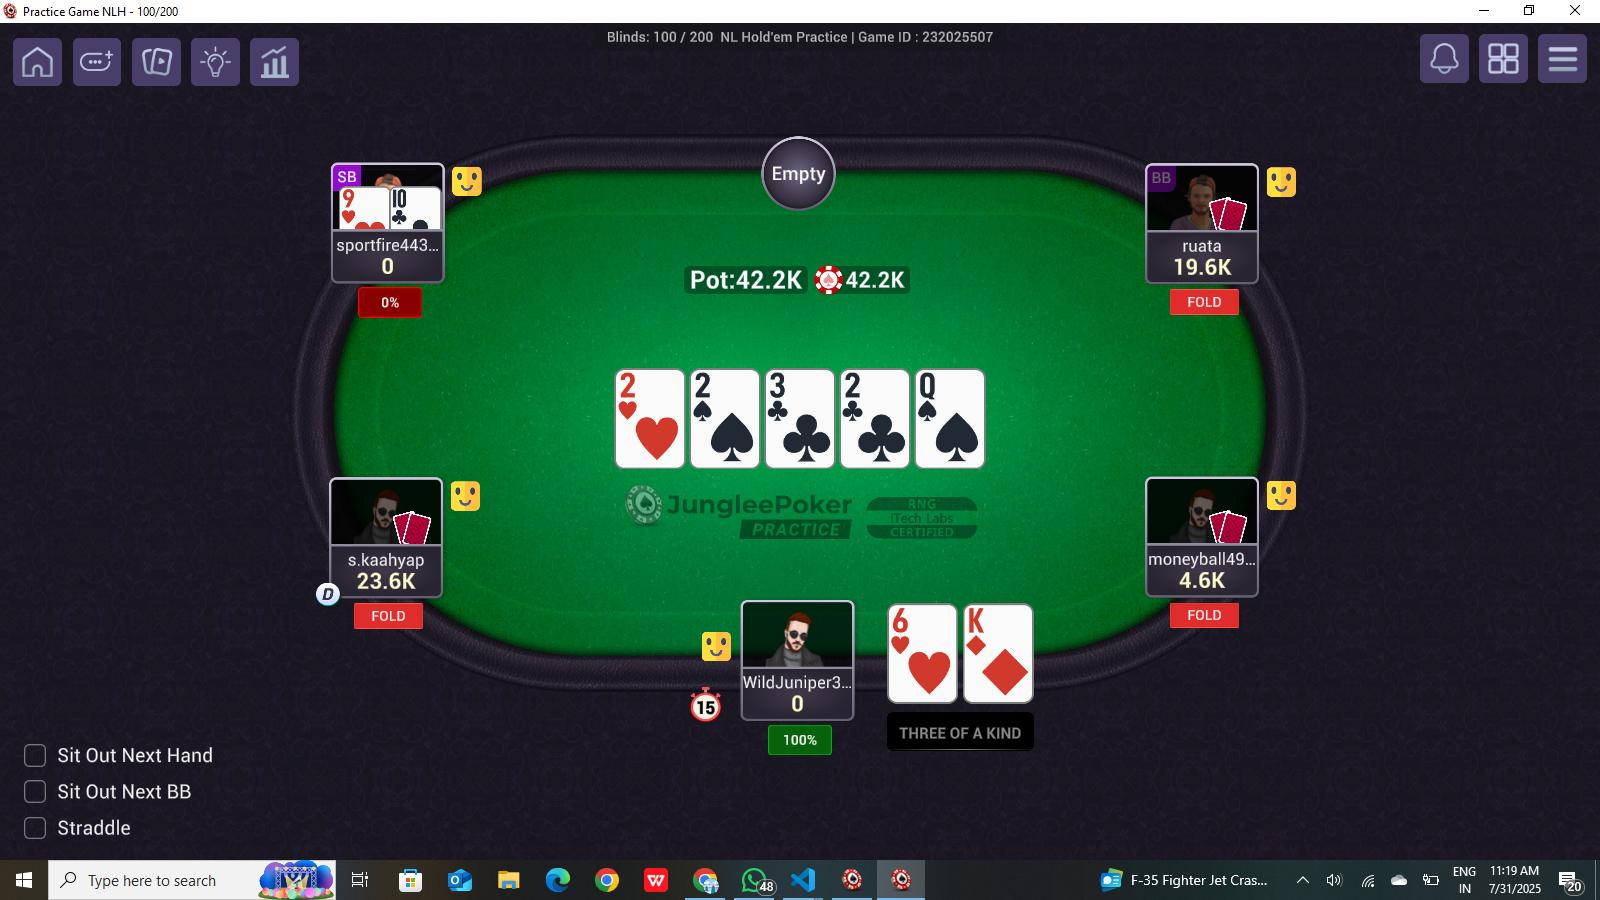card1_rank: (888, 601, 945, 643)
card1_suite_heart: (904, 643, 952, 699)
card2_rank: (962, 601, 1024, 641)
card2_suite_diamond: (973, 636, 1033, 702)
flop1_rank: (614, 371, 681, 403)
flop1_suite_heart: (630, 401, 687, 466)
flop2_rank: (688, 368, 758, 401)
flop2_suite_spades: (705, 401, 758, 468)
flop3_rank: (766, 368, 832, 400)
flop3_suite_spades: (778, 401, 835, 465)
game_id: (851, 21, 1000, 55)
my_stack: (742, 687, 855, 720)
position_BB: (1142, 158, 1180, 195)
position_SB: (332, 157, 365, 198)
river_rank: (912, 368, 977, 407)
river_suite_spades: (932, 407, 981, 469)
total_pot: (684, 263, 914, 301)
turn_rank: (840, 373, 907, 400)
turn_suite_club: (854, 404, 913, 465)
villian1_name: (332, 541, 444, 569)
villian1_stack: (336, 568, 444, 591)
villian2_name: (336, 229, 442, 263)
villian2_stack: (332, 258, 446, 279)
villian4_name: (1144, 231, 1258, 256)
villian4_stack: (1148, 258, 1258, 284)
villian5_name: (1148, 541, 1255, 569)
villian5_stack: (1148, 560, 1257, 599)
